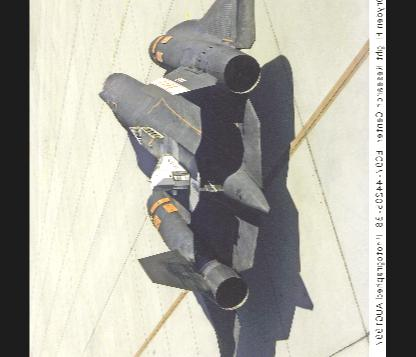Rafale: (98, 0, 272, 356)
